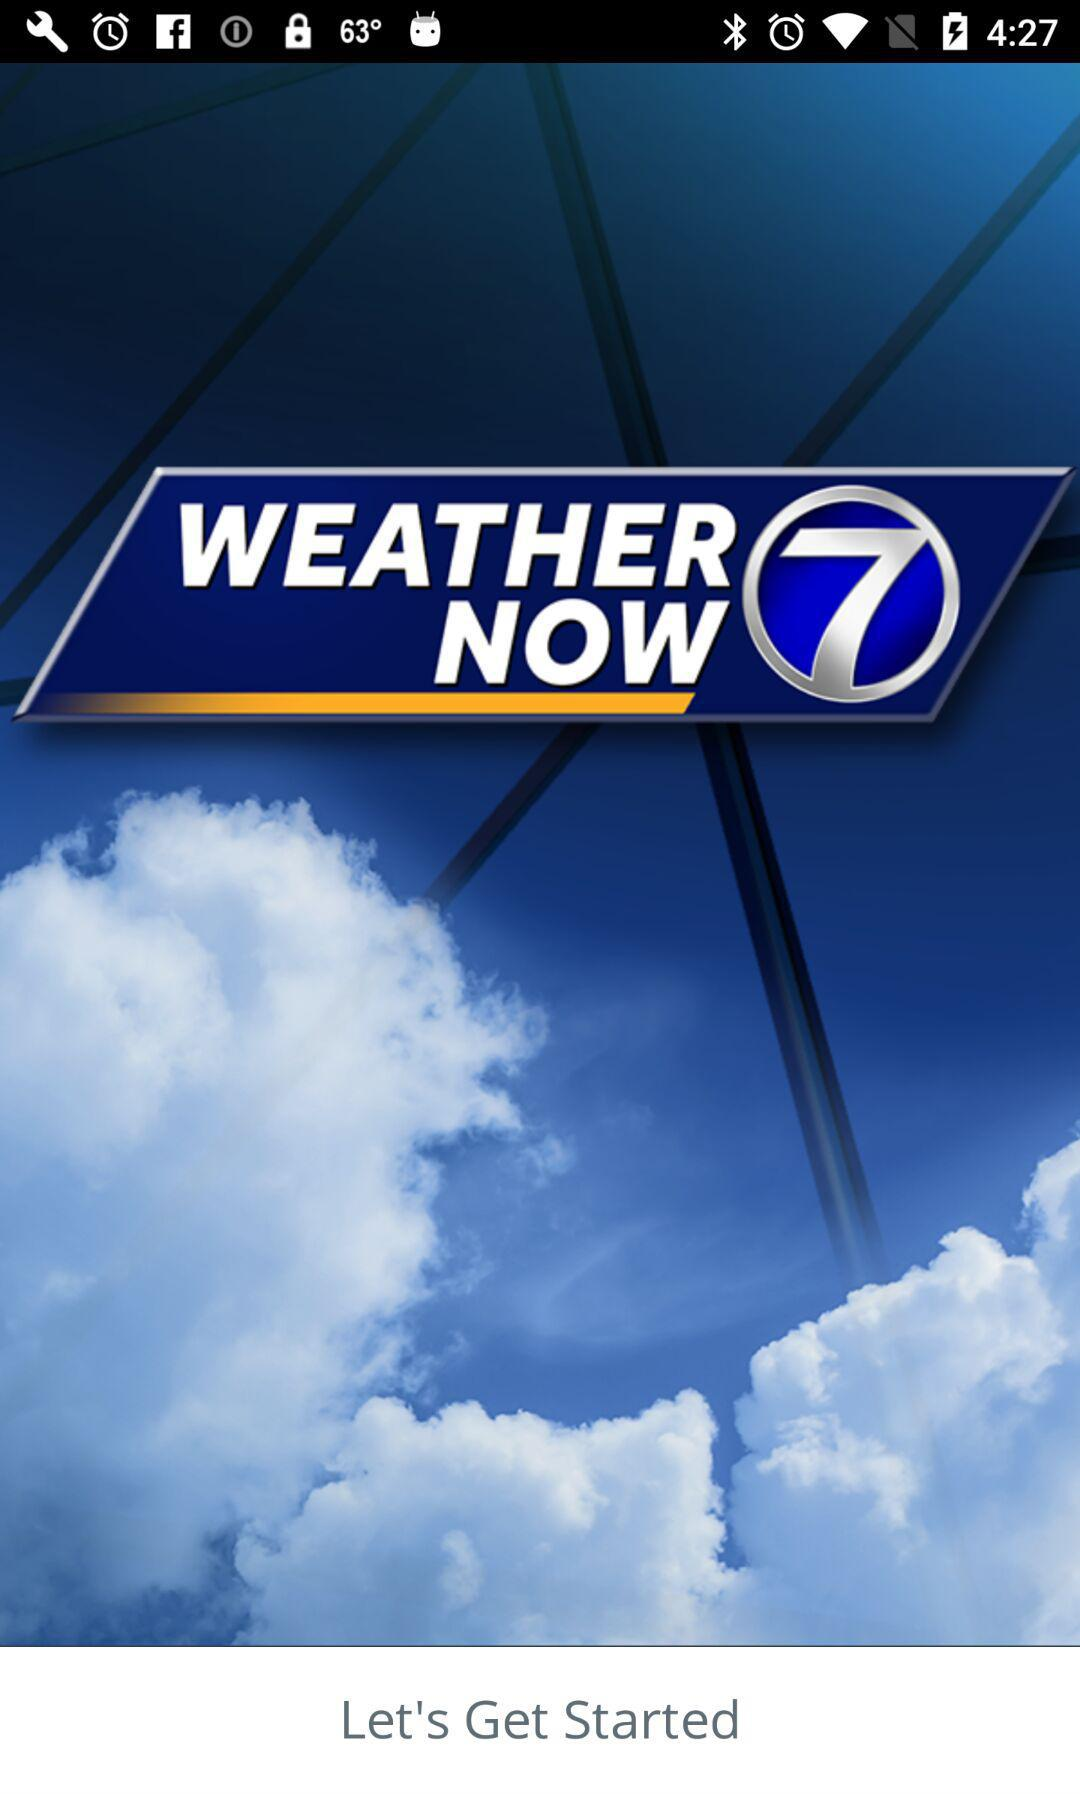Image: (1, 65, 1080, 1647)
TextButton: (1, 1647, 1080, 1794)
UpperTaskBar: (1, 1, 1080, 64)
